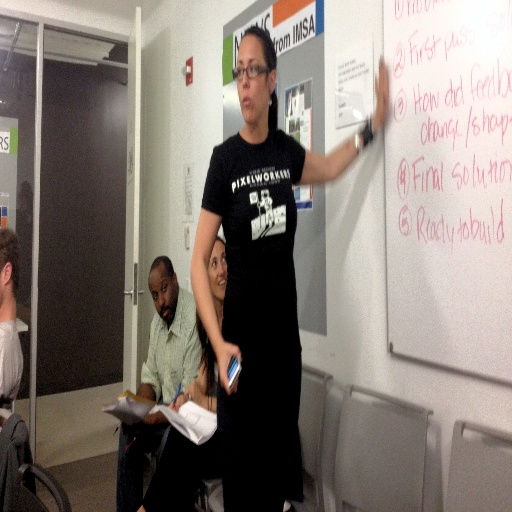hand: (218, 342, 242, 393), (373, 55, 388, 125), (183, 381, 203, 407), (144, 410, 165, 428), (167, 391, 183, 414), (124, 386, 139, 399)
